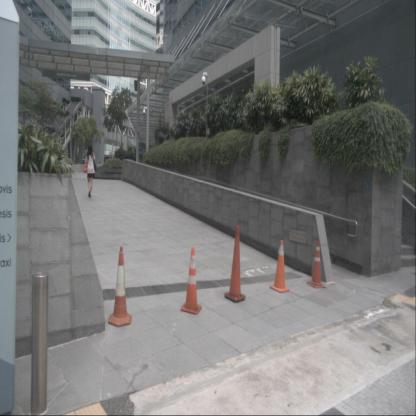cone: (108, 245, 132, 328), (224, 226, 246, 303), (180, 248, 202, 314), (270, 240, 290, 293), (306, 240, 326, 289)
